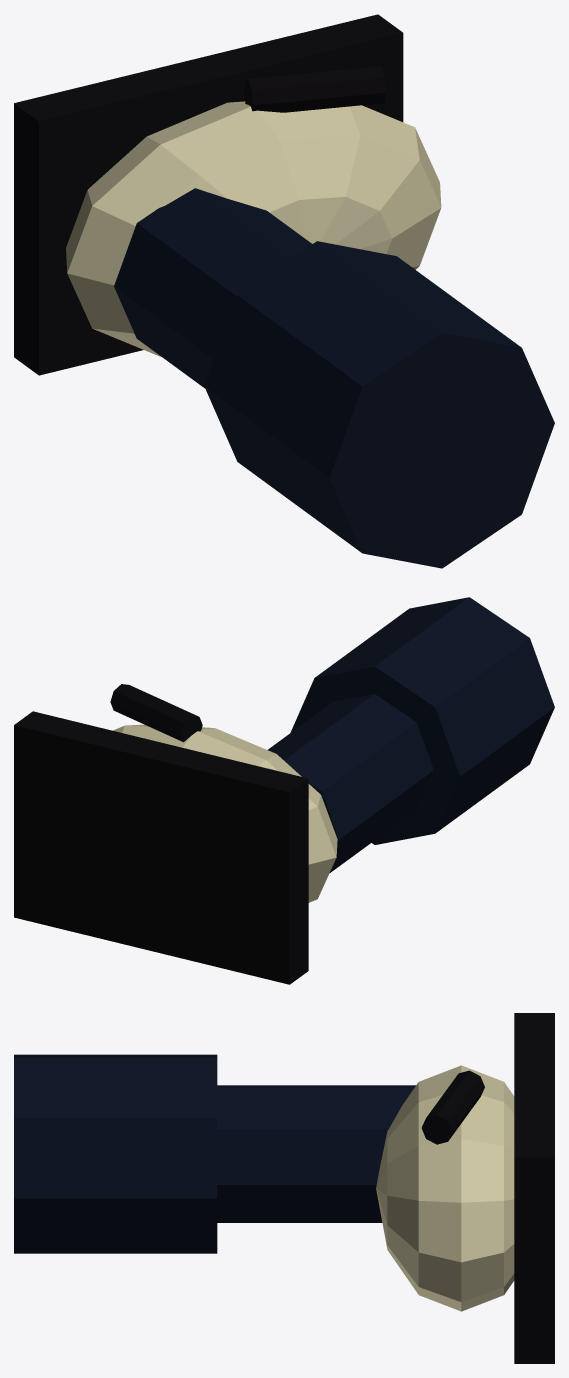
The model's file is Resident4RightLeg.obj.
The picture shows the model from 3 angles, top to bottom: view 1: azimuth 30°, elevation 25°; view 2: azimuth 150°, elevation 25°; view 3: azimuth 270°, elevation 25°; orthographic projection. The views are drawn at different scales.
Visible parts, largest first — view 1: Resident4RightLeg; view 2: Resident4RightLeg; view 3: Resident4RightLeg.
Part boxes in pixels (x1,y1,x2,y2): Resident4RightLeg: (14,14,554,568); Resident4RightLeg: (14,597,554,984); Resident4RightLeg: (14,1013,554,1363).
Size of the model in its own units: 44.5 by 30 by 66.5.
